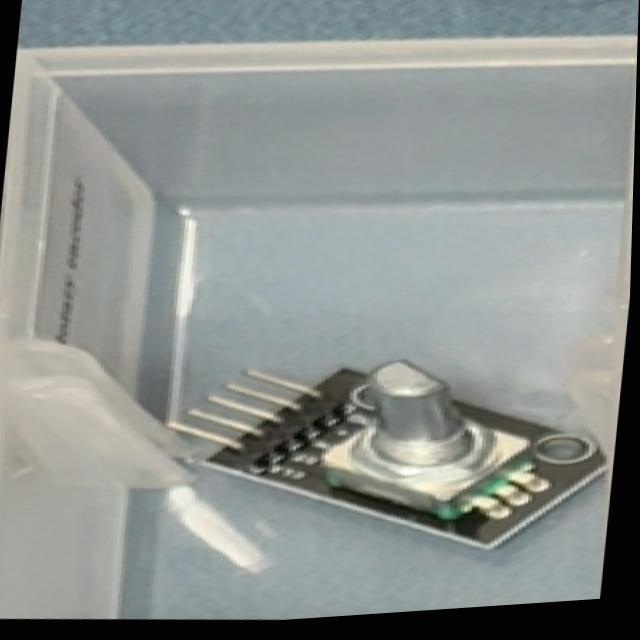Rotary Encoder: (152, 328, 624, 578)
